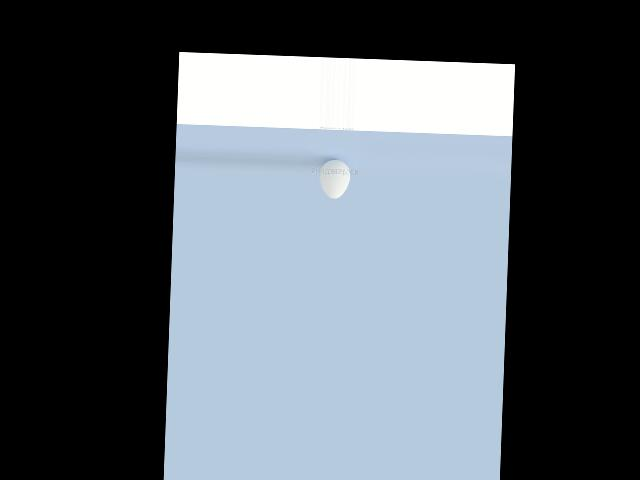egg: (319, 158, 351, 199)
